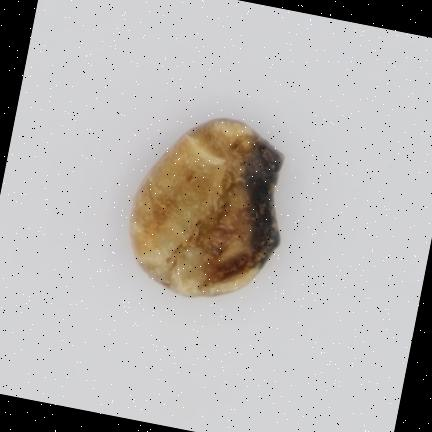partial-black: (131, 119, 284, 297)
